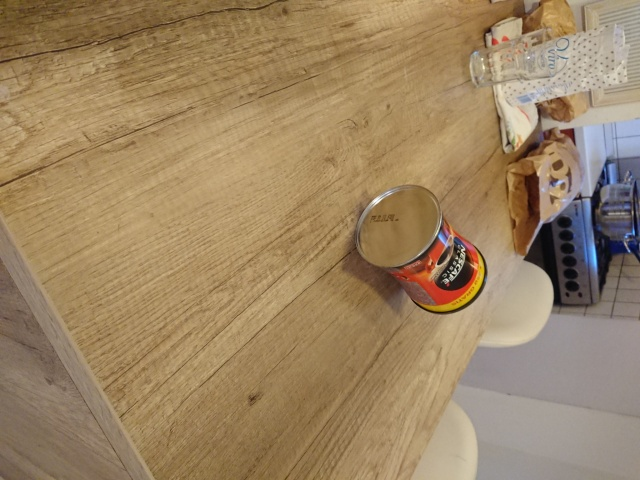Nescafe Classic 225g: (349, 181, 492, 318)
